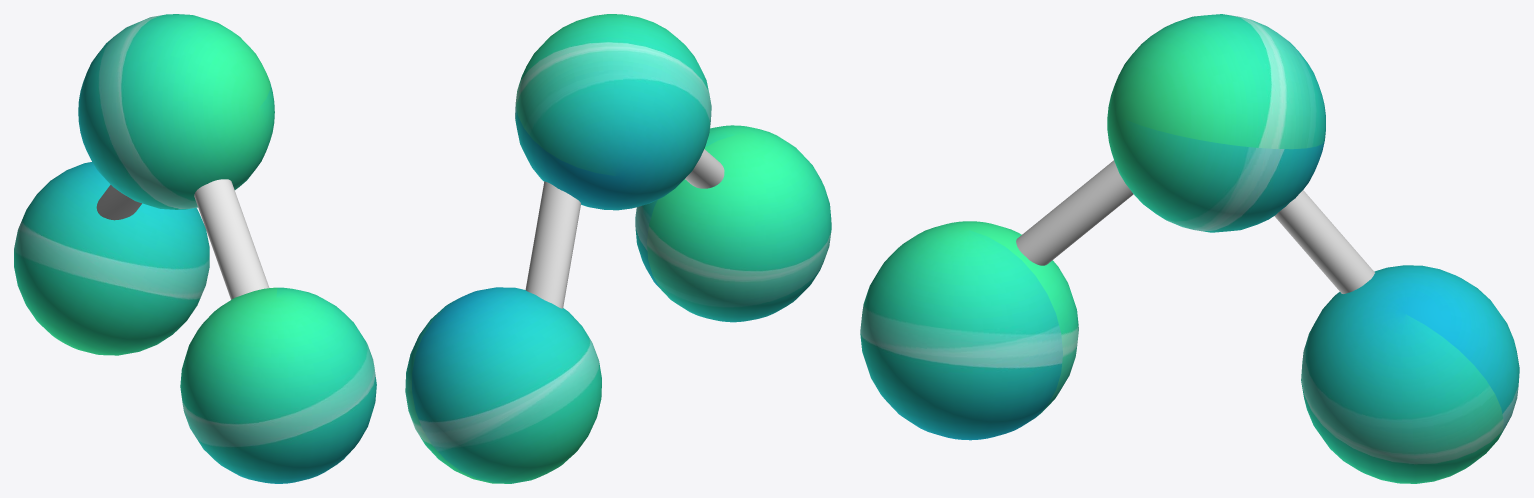
The model's file is ozone.glb.
3 renders of one model, left to right at view 1: azimuth 30°, elevation 25°; view 2: azimuth 150°, elevation 25°; view 3: azimuth 270°, elevation 25°, orthographic. The views are drawn at different scales.
Parts seen in each view (by area): view 1: Sphere.001, Sphere.002, Sphere, Cylinder.001, Cylinder; view 2: Sphere, Sphere.002, Sphere.001, Cylinder, Cylinder.001; view 3: Sphere.002, Sphere, Sphere.001, Cylinder.001, Cylinder.
Part boxes in pixels (x1,y1,x2,y2): Sphere.001: (180, 287, 376, 483); Sphere.002: (78, 14, 274, 209); Sphere: (14, 162, 209, 355); Cylinder.001: (194, 179, 269, 299); Cylinder: (96, 184, 141, 220); Sphere: (405, 287, 601, 483); Sphere.002: (515, 14, 711, 210); Sphere.001: (635, 125, 831, 322); Cylinder: (525, 181, 580, 308); Cylinder.001: (685, 149, 724, 188); Sphere.002: (1107, 14, 1325, 232); Sphere: (1301, 265, 1519, 483); Sphere.001: (860, 221, 1078, 440); Cylinder.001: (1016, 160, 1133, 265); Cylinder: (1274, 190, 1374, 293).
Size of the model in its own units: 0.1534 by 0.2854 by 0.3905.
Materials: 1 (1 with a texture image).
